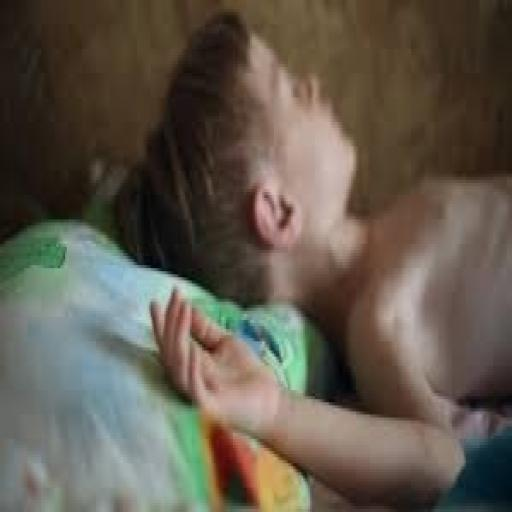sleeping: (112, 6, 510, 509)
